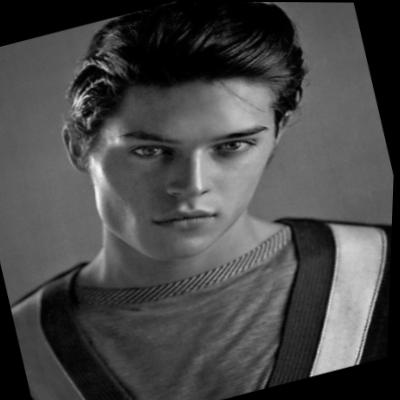netural: (65, 53, 303, 278)
